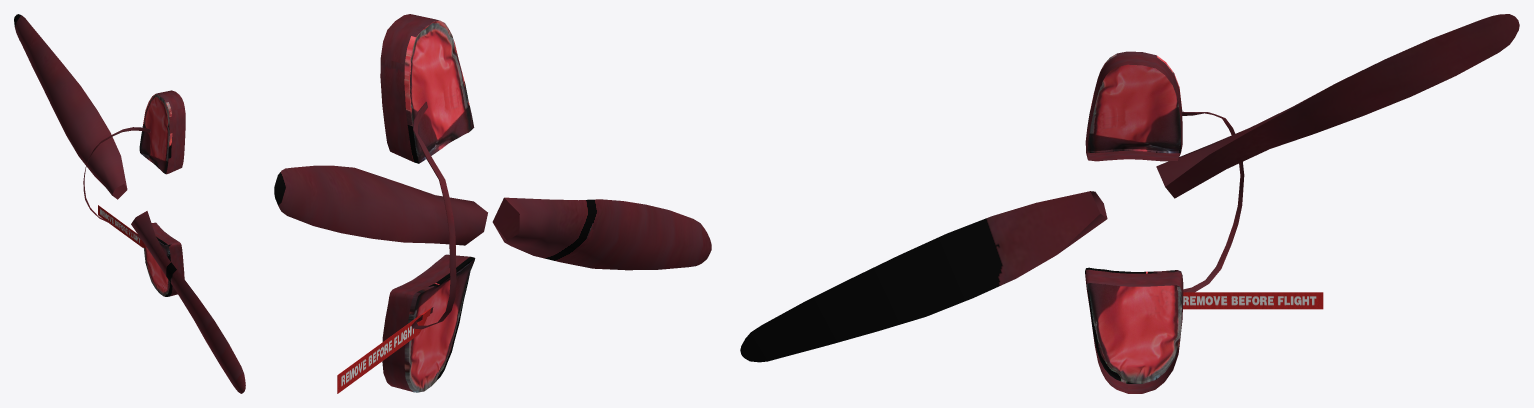
Rendered from cowlplugs.gltf.
The picture shows the model from 3 angles, left to right: view 1: azimuth 30°, elevation 25°; view 2: azimuth 150°, elevation 25°; view 3: azimuth 270°, elevation 25°; orthographic projection. The views are drawn at different scales.
Visible parts, largest first — view 1: PropellerCowlPlugs, CowlPlugs; view 2: PropellerCowlPlugs, CowlPlugs; view 3: PropellerCowlPlugs, CowlPlugs.
Boxes of the visible parts, bbox=[...] form: PropellerCowlPlugs: bbox=[14, 14, 245, 393]; CowlPlugs: bbox=[83, 90, 185, 296]; PropellerCowlPlugs: bbox=[274, 165, 711, 270]; CowlPlugs: bbox=[337, 14, 475, 393]; PropellerCowlPlugs: bbox=[740, 14, 1519, 362]; CowlPlugs: bbox=[1085, 51, 1323, 393].
Size of the model in its own units: 0.2648 by 0.8543 by 1.71.
2 materials, 2 textured.
